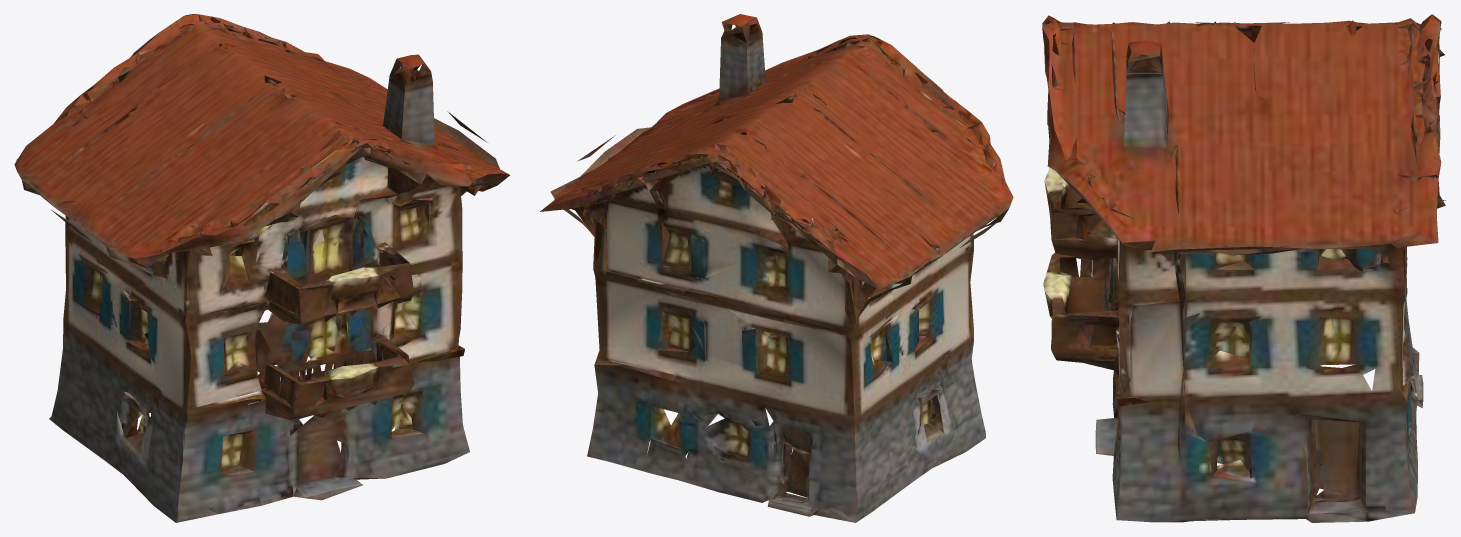
File: villa_3.glb
3 renders of one model, left to right at view 1: azimuth 30°, elevation 25°; view 2: azimuth 150°, elevation 25°; view 3: azimuth 270°, elevation 25°, orthographic. The views are drawn at different scales.
Parts seen in each view (by area): view 1: alpine__villa_3__neural_lod; view 2: alpine__villa_3__neural_lod; view 3: alpine__villa_3__neural_lod.
Part boxes in pixels (x1=…): alpine__villa_3__neural_lod: x1=14, y1=14, x2=509, y2=522; alpine__villa_3__neural_lod: x1=540, y1=14, x2=1013, y2=522; alpine__villa_3__neural_lod: x1=1042, y1=14, x2=1445, y2=522.
Size of the model in its own units: 0.9921 by 0.9449 by 0.7532.
Materials: 1 (1 with a texture image).
